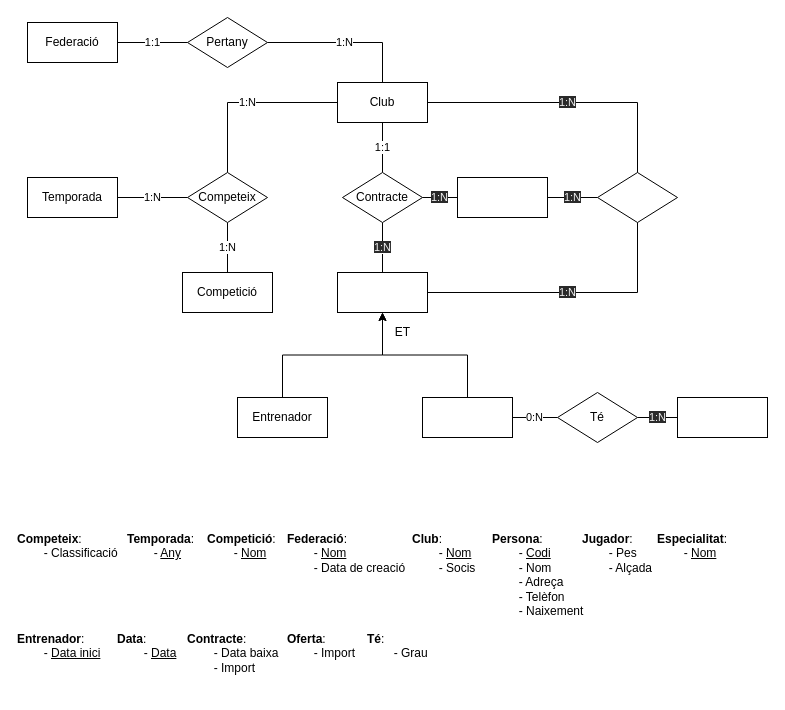
The diagram is 785 pixels wide and 710 high, and some of its shapes have lost their labels. Here are the shapes that lost their labels. From the top down, the centre of each, then its label:
At pixel 502 197: "Data".
At pixel 637 197: "Oferta".
At pixel 382 292: "Persona".
At pixel 467 417: "Jugador".
At pixel 722 417: "Especialitat".
